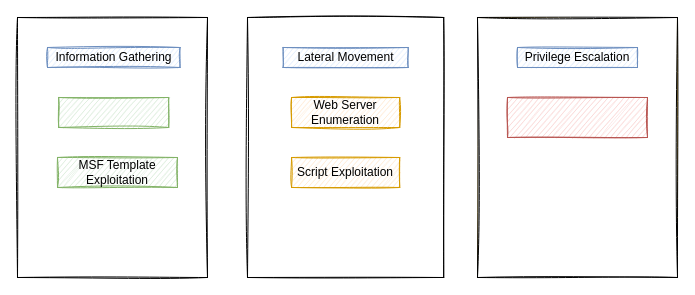
Some shapes in this 695 by 295 pixel diagram are drawn without their labels. The shapes that lost their labels are listed below. From the top down, each one's centre as x and y in pixels, then its label:
the point at 113,112: Web Enumeration
the point at 577,117: Running Metasploit as Root
